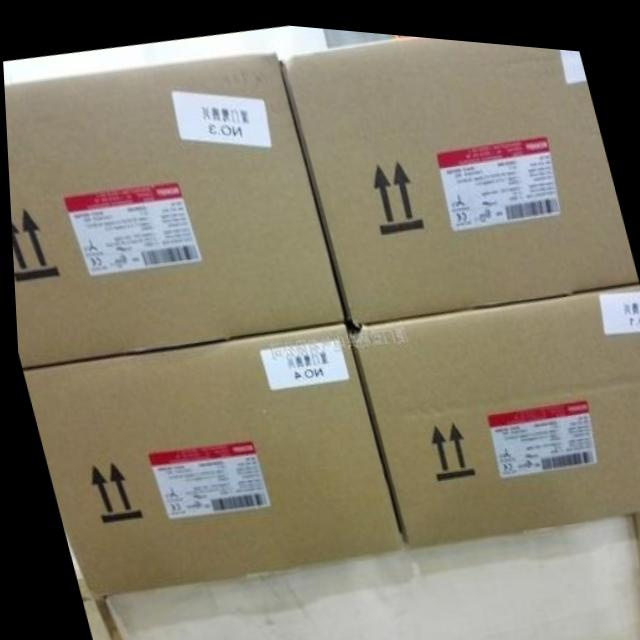box: (18, 314, 399, 601), (3, 46, 341, 369), (277, 29, 634, 315), (342, 271, 640, 539)
